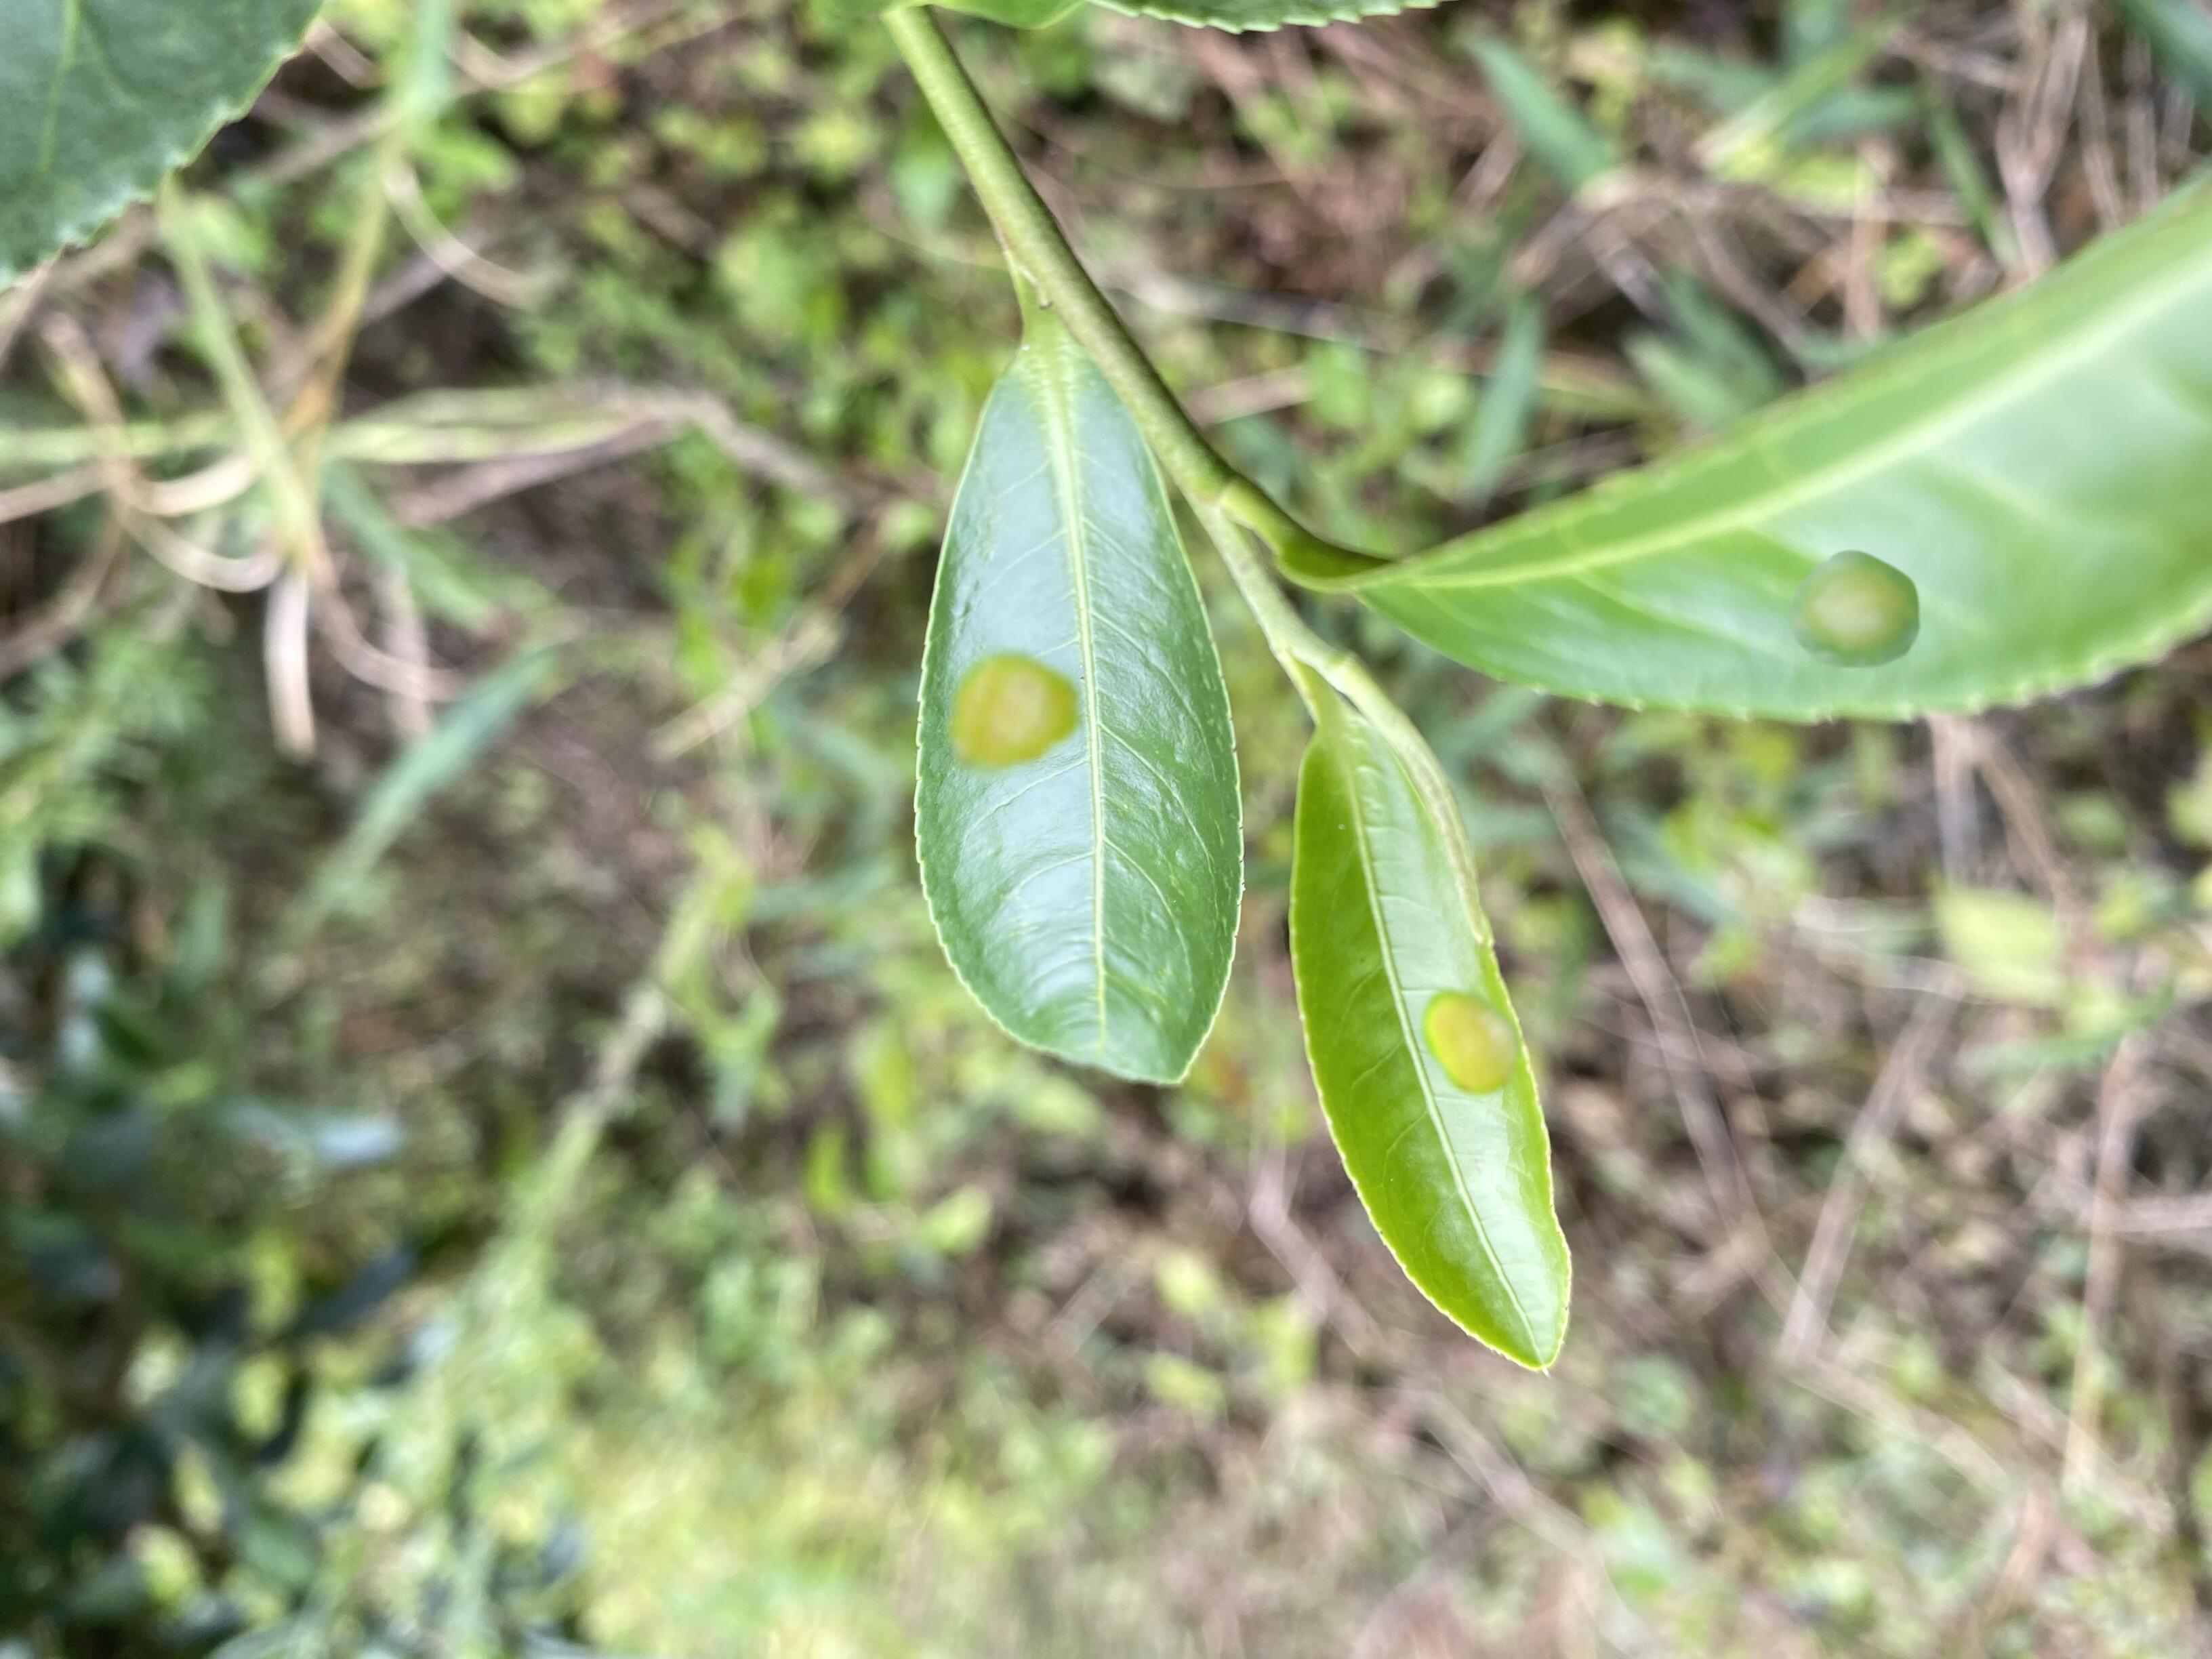chabing_low: (1271, 178, 2209, 728), (913, 335, 1247, 1086), (1284, 709, 1575, 1373)
